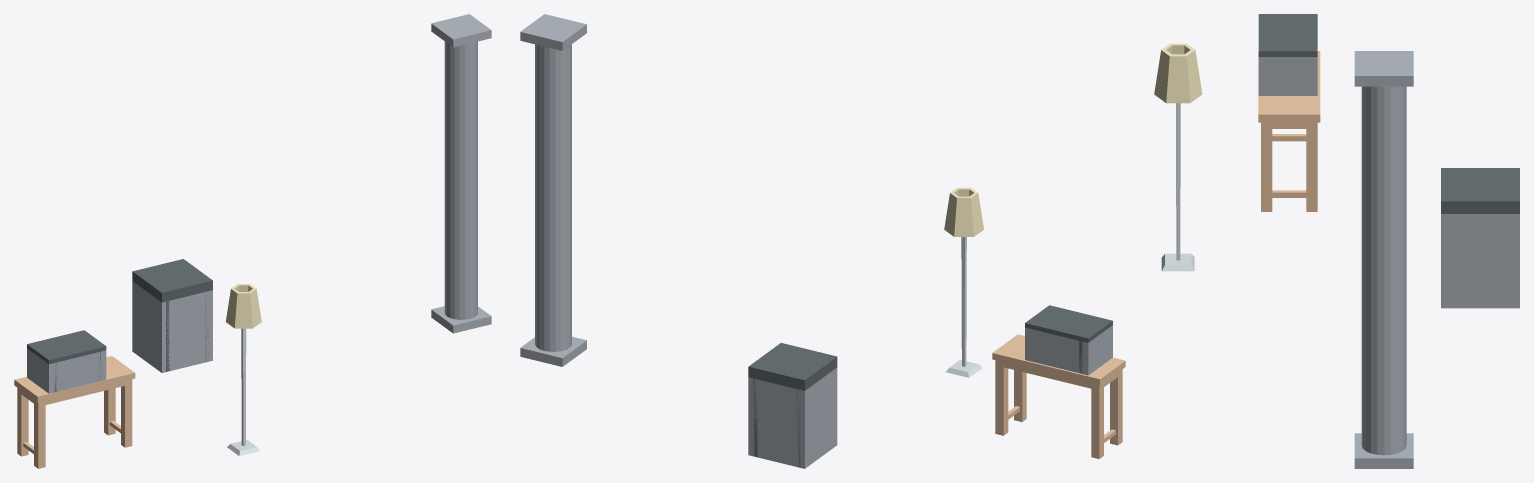
The picture shows the model from 3 angles, left to right: view 1: azimuth 30°, elevation 25°; view 2: azimuth 150°, elevation 25°; view 3: azimuth 270°, elevation 25°; orthographic projection. The views are drawn at different scales.
Parts seen in each view (by area): view 1: column_cyan__column_cyan shaft, bin_gray__bin_gray shell, sidetable_brown__sideTable(Clone), case_brown__case_brown shell, lamp_white__lampRoundFloor(Clone), bin_gray__bin_gray lid, case_brown__case_brown lid, column_cyan__column_cyan capital, column_cyan__column_cyan plinth; view 2: column_cyan__column_cyan shaft, bin_gray__bin_gray shell, sidetable_brown__sideTable(Clone), case_brown__case_brown shell, lamp_white__lampRoundFloor(Clone), bin_gray__bin_gray lid, case_brown__case_brown lid, column_cyan__column_cyan capital, column_cyan__column_cyan plinth; view 3: column_cyan__column_cyan shaft, bin_gray__bin_gray shell, sidetable_brown__sideTable(Clone), lamp_white__lampRoundFloor(Clone), bin_gray__bin_gray lid, case_brown__case_brown lid, case_brown__case_brown shell, column_cyan__column_cyan capital, column_cyan__column_cyan plinth.
Boxes of the visible parts, x1=… form: column_cyan__column_cyan shaft: x1=444, y1=41, x2=477, y2=319; bin_gray__bin_gray shell: x1=132, y1=281, x2=212, y2=372; sidetable_brown__sideTable(Clone): x1=14, y1=356, x2=135, y2=468; case_brown__case_brown shell: x1=27, y1=348, x2=106, y2=393; lamp_white__lampRoundFloor(Clone): x1=225, y1=284, x2=261, y2=456; bin_gray__bin_gray lid: x1=132, y1=259, x2=212, y2=302; case_brown__case_brown lid: x1=27, y1=330, x2=106, y2=364; column_cyan__column_cyan capital: x1=431, y1=14, x2=491, y2=47; column_cyan__column_cyan plinth: x1=431, y1=306, x2=491, y2=333; column_cyan__column_cyan shaft: x1=535, y1=44, x2=571, y2=351; bin_gray__bin_gray shell: x1=748, y1=367, x2=837, y2=468; sidetable_brown__sideTable(Clone): x1=992, y1=334, x2=1125, y2=458; case_brown__case_brown shell: x1=1025, y1=325, x2=1112, y2=375; lamp_white__lampRoundFloor(Clone): x1=944, y1=187, x2=983, y2=377; bin_gray__bin_gray lid: x1=748, y1=343, x2=837, y2=390; case_brown__case_brown lid: x1=1025, y1=305, x2=1112, y2=342; column_cyan__column_cyan capital: x1=520, y1=14, x2=586, y2=50; column_cyan__column_cyan plinth: x1=520, y1=336, x2=586, y2=366; column_cyan__column_cyan shaft: x1=1361, y1=86, x2=1406, y2=455; bin_gray__bin_gray shell: x1=1441, y1=214, x2=1519, y2=308; sidetable_brown__sideTable(Clone): x1=1258, y1=51, x2=1320, y2=211; lamp_white__lampRoundFloor(Clone): x1=1154, y1=43, x2=1202, y2=271; bin_gray__bin_gray lid: x1=1441, y1=168, x2=1519, y2=213; case_brown__case_brown lid: x1=1258, y1=14, x2=1317, y2=56; case_brown__case_brown shell: x1=1258, y1=57, x2=1317, y2=95; column_cyan__column_cyan capital: x1=1354, y1=51, x2=1413, y2=86; column_cyan__column_cyan plinth: x1=1354, y1=433, x2=1413, y2=468.
Bounding box in the file's own units: 3.84 × 2.2 × 1.86.
